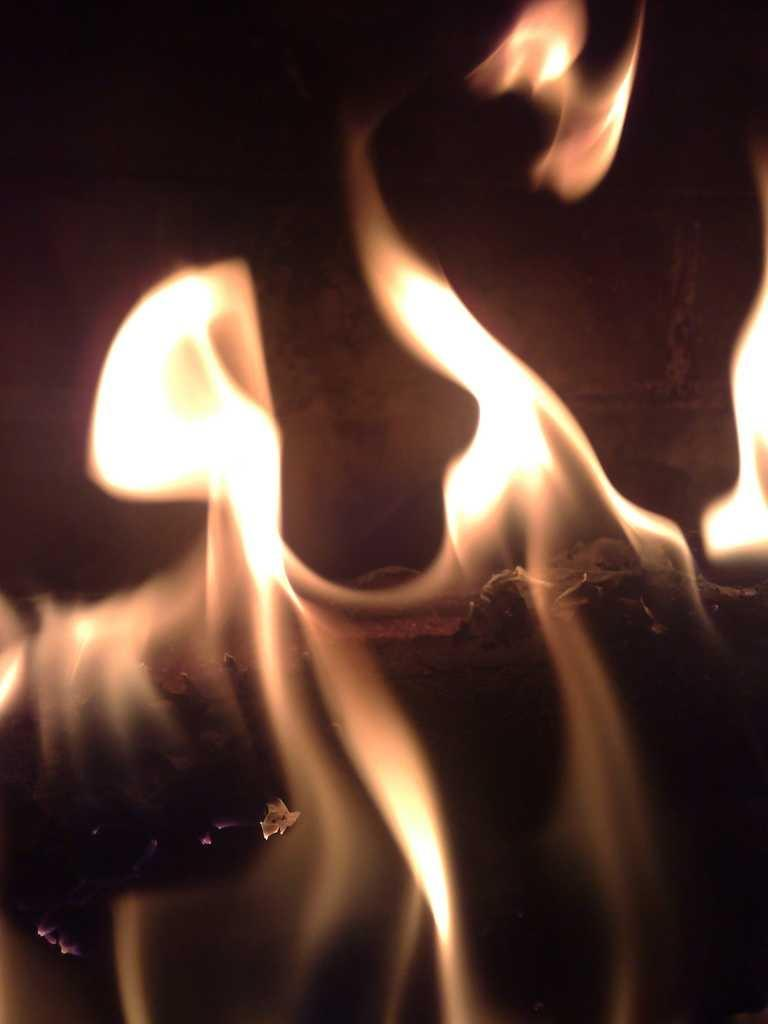fire: (140, 285, 250, 500), (480, 378, 562, 495)
